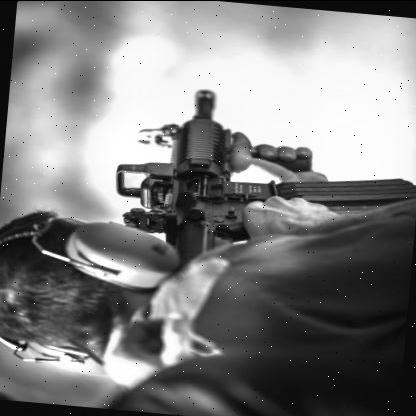rifle: (116, 77, 411, 306)
